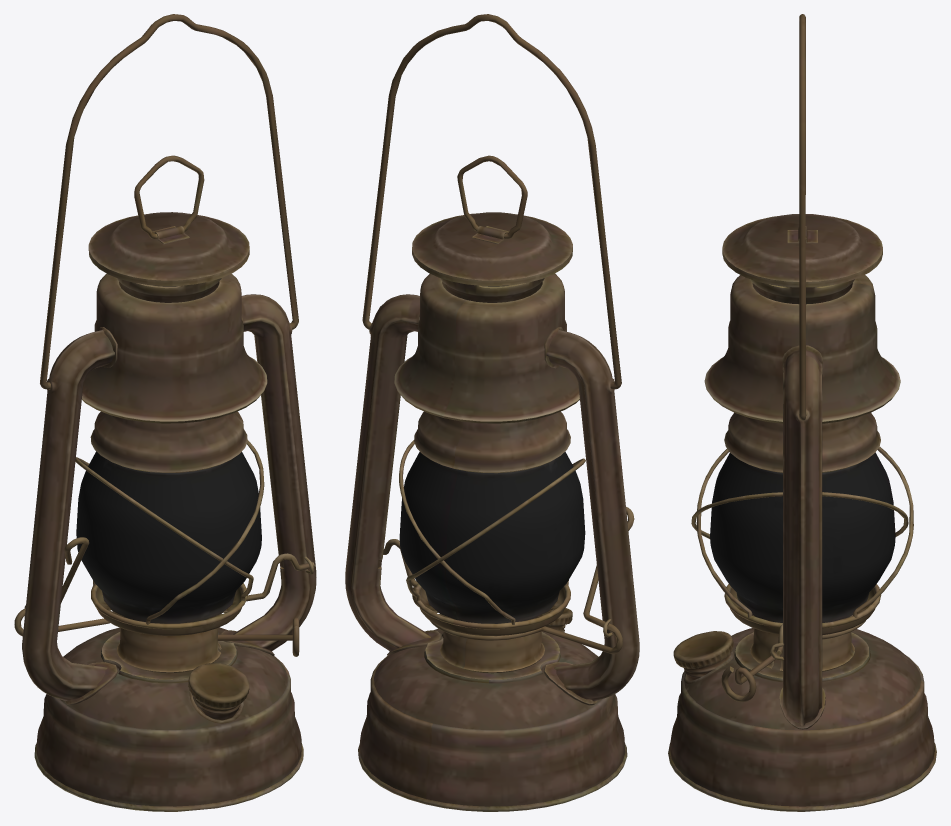
The model's file is lantern.glb.
3 renders of one model, left to right at view 1: azimuth 30°, elevation 25°; view 2: azimuth 150°, elevation 25°; view 3: azimuth 270°, elevation 25°, orthographic.
Parts seen in each view (by area): view 1: Lantern_01, Lantern_01_glass; view 2: Lantern_01, Lantern_01_glass; view 3: Lantern_01, Lantern_01_glass.
Boxes of the visible parts, x1=… form: Lantern_01: x1=14, y1=14, x2=316, y2=811; Lantern_01_glass: x1=76, y1=451, x2=261, y2=623; Lantern_01: x1=345, y1=14, x2=639, y2=811; Lantern_01_glass: x1=399, y1=451, x2=585, y2=623; Lantern_01: x1=668, y1=14, x2=936, y2=811; Lantern_01_glass: x1=710, y1=452, x2=895, y2=622.
Size of the model in its own units: 0.1221 by 0.2942 by 0.0971.
2 materials, 2 textured.
